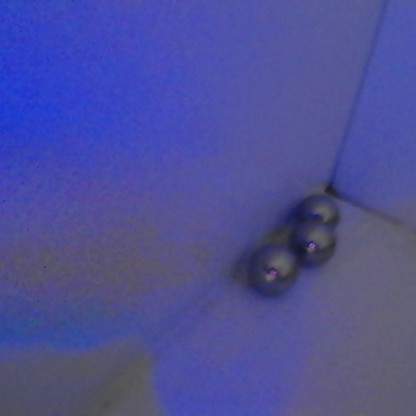ironball: (291, 220, 341, 269), (249, 241, 297, 290), (296, 190, 339, 229)
